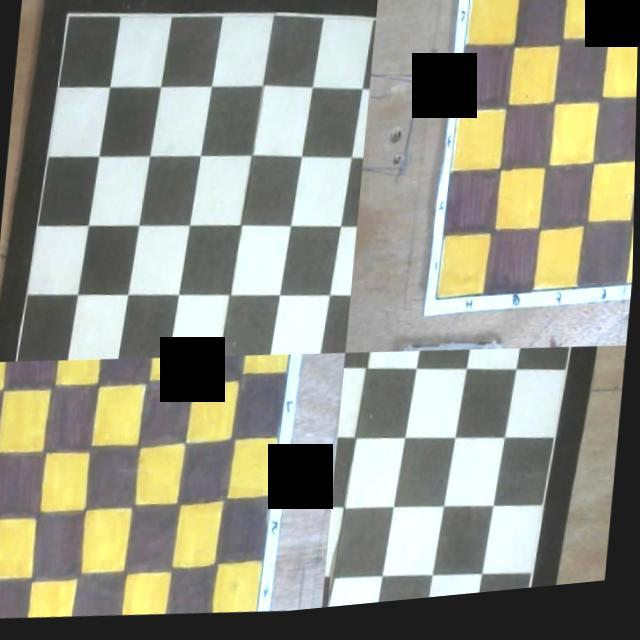chess-table-corners: (52, 8, 62, 22), (434, 302, 438, 308), (250, 614, 255, 617), (0, 358, 3, 362)
